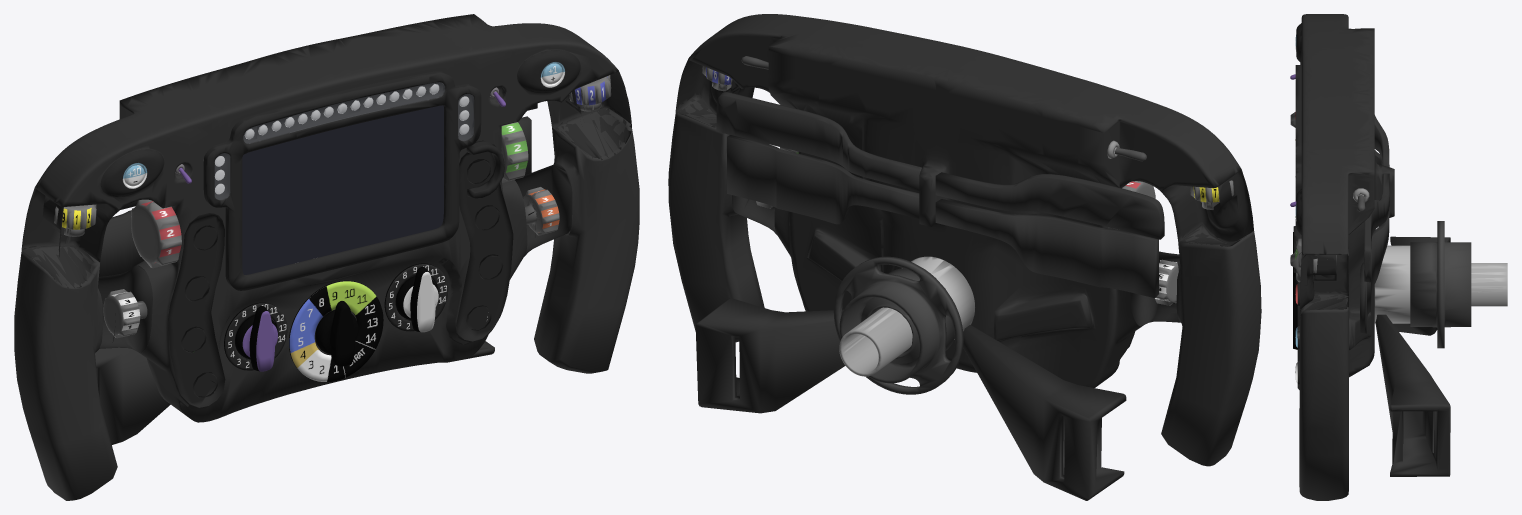
File: mclaren-wheel.glb
3 renders of one model, left to right at view 1: azimuth 30°, elevation 25°; view 2: azimuth 150°, elevation 25°; view 3: azimuth 270°, elevation 25°, orthographic. The views are drawn at different scales.
Visible parts, largest first — view 1: Plane, Plane.001, Plane.014, Plane.010, Plane.011, Cylinder.004, Circle, Plane.002, Plane.008, Plane.003, Plane.013, Plane.007 (+4 smaller); view 2: Plane, Plane.001, Plane.008, Plane.007, Plane.006, Circle.004, Plane.002, Cylinder.004, Plane.003, Plane.009; view 3: Plane, Plane.001, Circle.004, Plane.008, Plane.002, Plane.006, Plane.007, Plane.010, Plane.011, Cylinder.004, Plane.009.
Part boxes in pixels (left/top/right/bottom): Plane: left=35, top=14, right=618, bottom=422; Plane.001: left=14, top=107, right=639, bottom=500; Plane.014: left=242, top=105, right=443, bottom=274; Plane.010: left=203, top=71, right=481, bottom=290; Plane.011: left=168, top=140, right=513, bottom=407; Cylinder.004: left=54, top=75, right=611, bottom=338; Circle: left=224, top=263, right=448, bottom=381; Plane.002: left=21, top=70, right=631, bottom=287; Plane.008: left=95, top=341, right=494, bottom=444; Plane.003: left=98, top=164, right=572, bottom=352; Plane.013: left=215, top=82, right=473, bottom=199; Plane.007: left=99, top=116, right=531, bottom=276; Plane: left=688, top=14, right=1241, bottom=387; Plane.001: left=668, top=95, right=1261, bottom=466; Plane.008: left=695, top=298, right=1126, bottom=500; Plane.007: left=727, top=135, right=1158, bottom=298; Plane.006: left=716, top=92, right=1164, bottom=239; Circle.004: left=833, top=256, right=974, bottom=394; Plane.002: left=675, top=59, right=1253, bottom=246; Cylinder.004: left=702, top=66, right=1234, bottom=305; Plane.003: left=732, top=195, right=1180, bottom=325; Plane.009: left=741, top=56, right=1146, bottom=161; Plane: left=1295, top=14, right=1394, bottom=377; Plane.001: left=1299, top=293, right=1348, bottom=500; Circle.004: left=1374, top=221, right=1507, bottom=348; Plane.008: left=1375, top=236, right=1450, bottom=476; Plane.002: left=1300, top=62, right=1348, bottom=316; Plane.006: left=1364, top=115, right=1389, bottom=282; Plane.007: left=1360, top=150, right=1389, bottom=333; Plane.010: left=1295, top=65, right=1301, bottom=286; Plane.011: left=1293, top=139, right=1301, bottom=389; Cylinder.004: left=1290, top=112, right=1348, bottom=339; Plane.009: left=1353, top=188, right=1369, bottom=211.
Bounding box in the file's own units: 4.15 × 2.38 × 1.56.
Materials: 10 (9 with a texture image).
